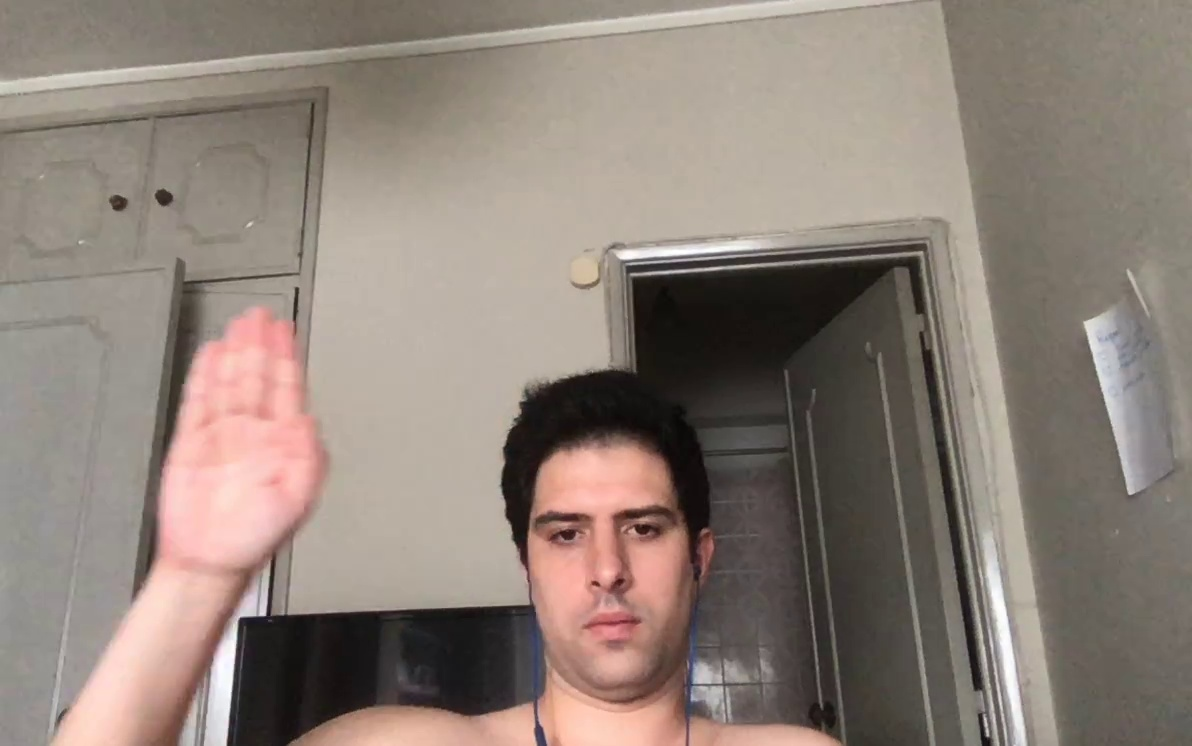b: (152, 299, 331, 580)
